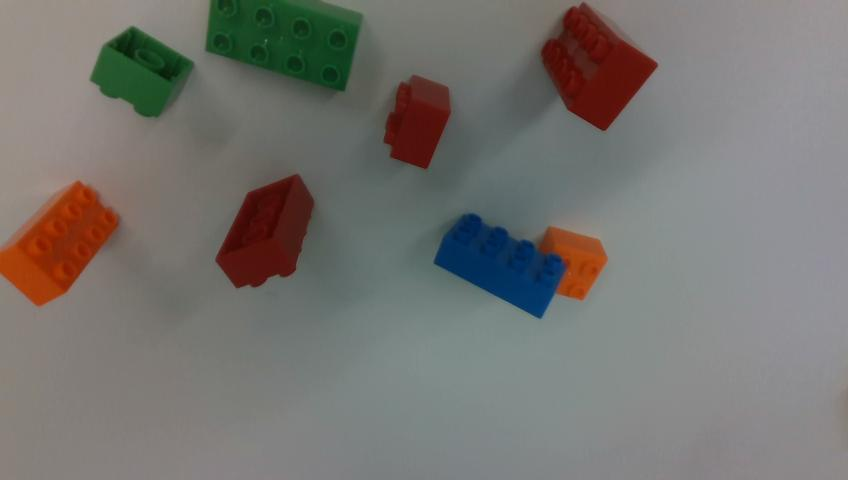2x2_green: (92, 26, 194, 115)
2x2_orange: (537, 227, 607, 299)
2x2_red: (384, 76, 450, 168)
4x2_blue: (435, 214, 565, 317)
4x2_green: (207, 0, 361, 89)
4x2_orange: (0, 182, 118, 305)
4x2_red: (541, 3, 657, 130), (217, 175, 313, 287)
